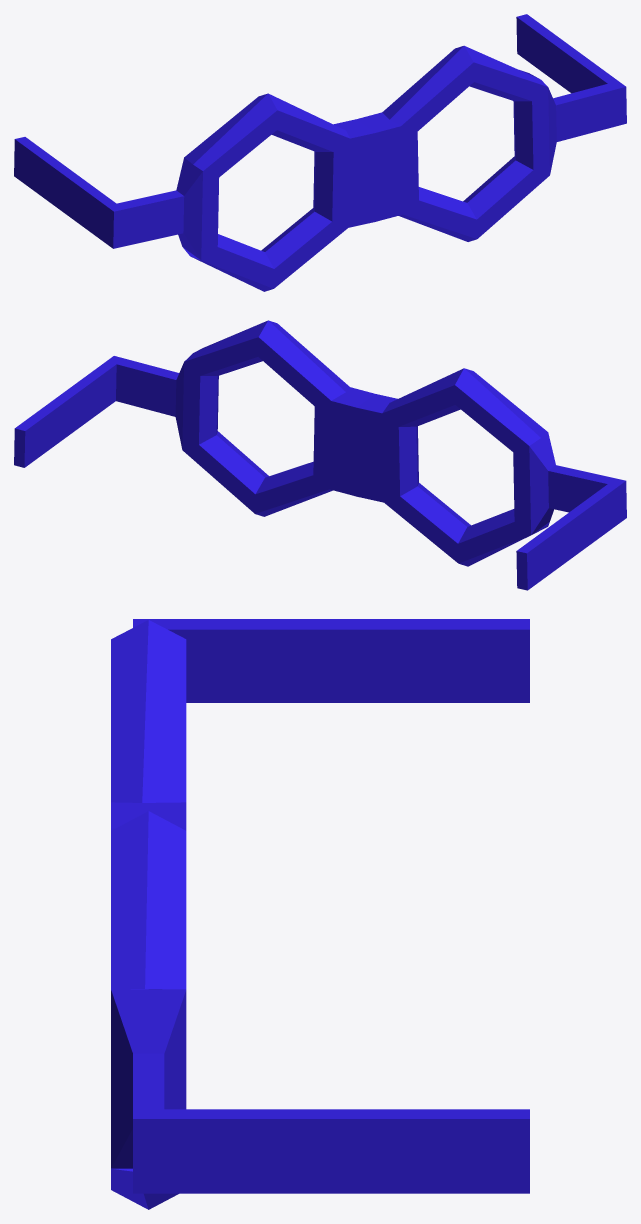
File: glases.fbx
3 renders of one model, top to bottom at view 1: azimuth 30°, elevation 25°; view 2: azimuth 150°, elevation 25°; view 3: azimuth 270°, elevation 25°, orthographic. The views are drawn at different scales.
Visible parts, largest first — view 1: Glases; view 2: Glases; view 3: Glases.
Boxes of the visible parts, x1=… form: Glases: x1=14, y1=14, x2=626, y2=291; Glases: x1=14, y1=320, x2=626, y2=590; Glases: x1=111, y1=619, x2=529, y2=1209.
Size of the model in its own units: 387 by 142 by 137.
